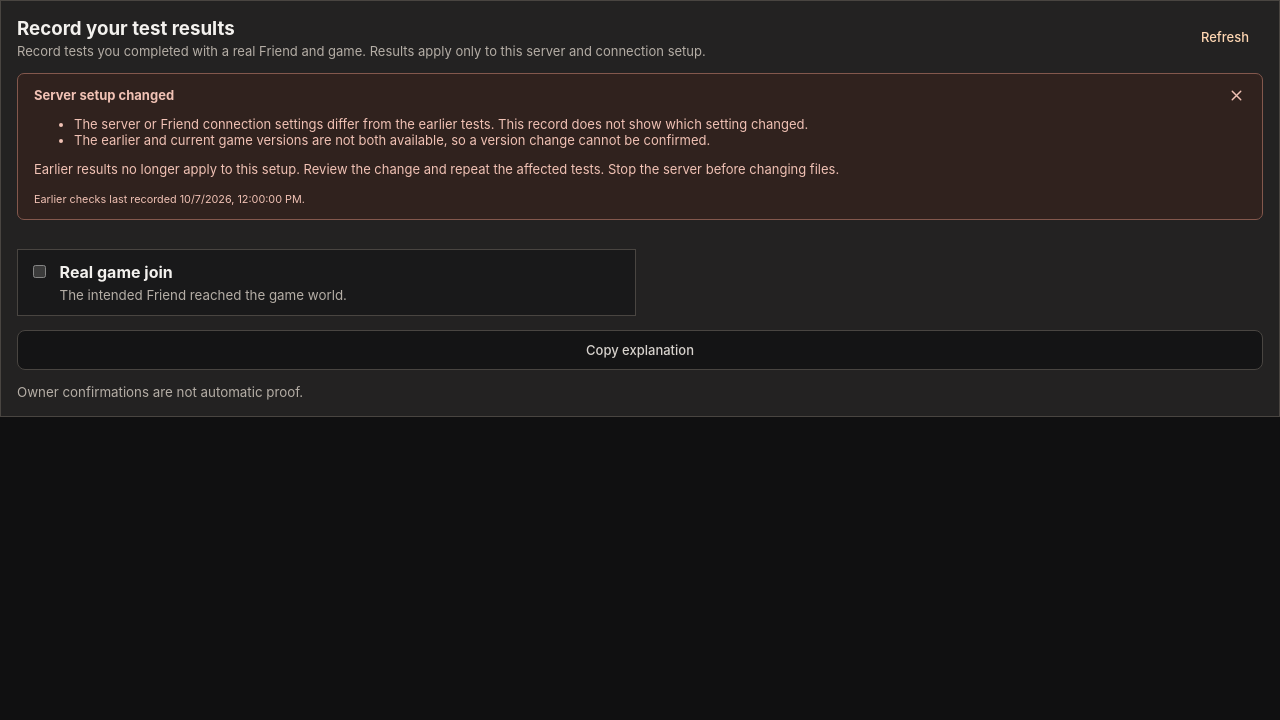
Test: AcceptanceRecorder stale evidence › keeps raw save failures out of owner feedback and rejects a successful result for another profile
What coordinates should you click on to do the following:
click the checkbox
I would click on:
 (40, 271)
Its box is [33,265,46,278].
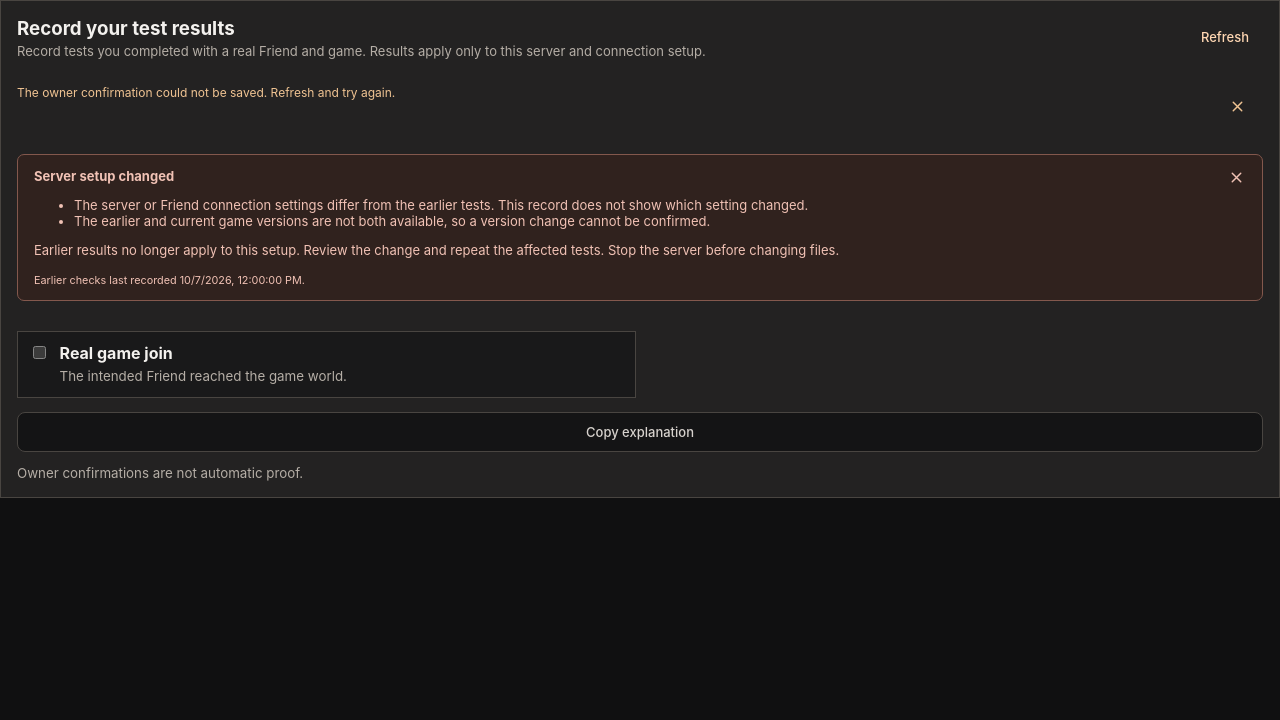
Result: the message "The owner confirmation could not be saved. Refresh and try again." is shown at [17,85,1263,129]
What coordinates should you click on to do the following:
click the checkbox
I would click on:
 (40, 353)
Its box is [33,346,46,359].
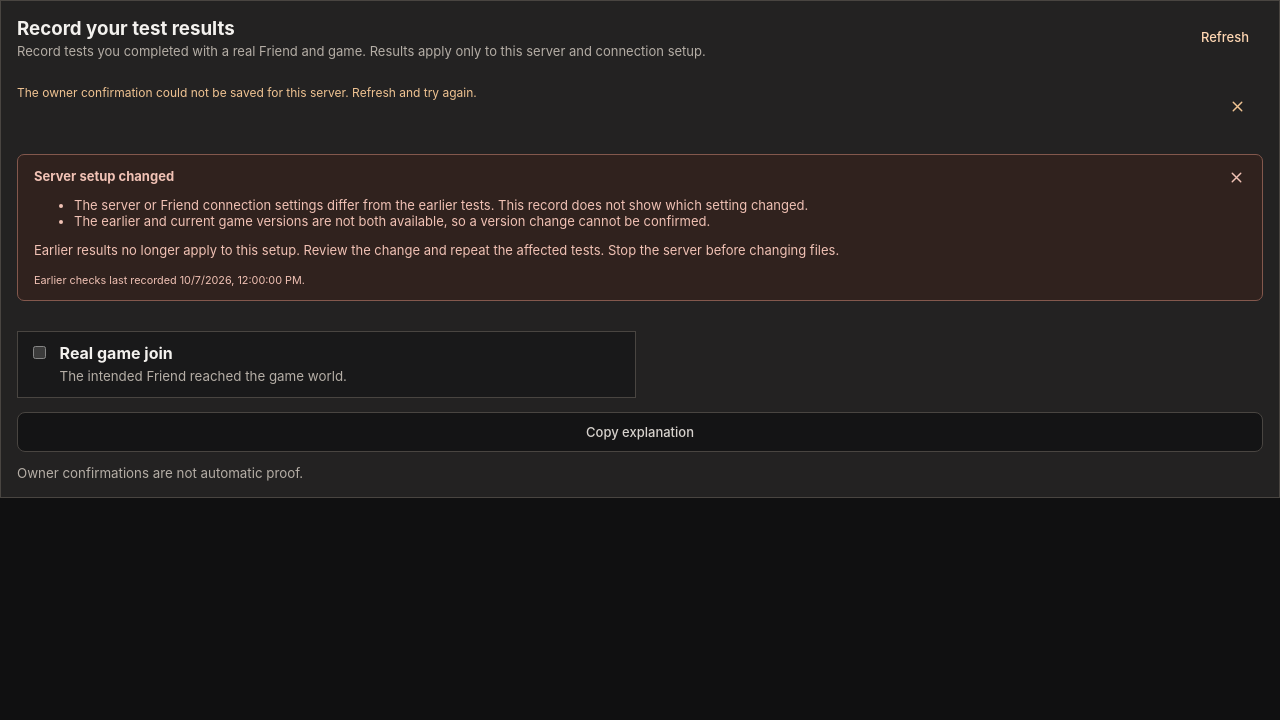
Result: the 1st message shows "saved for this server" at [17,85,477,100]
